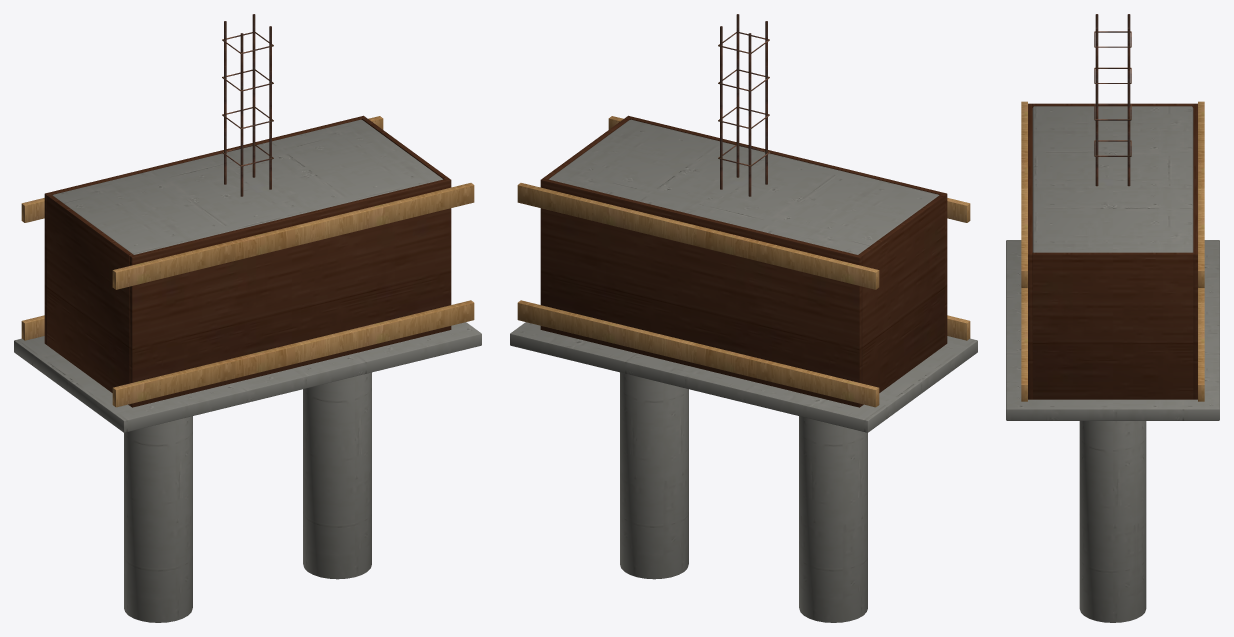
Rendered from KIT-FUN-02_lod1.glb.
3 renders of one model, left to right at view 1: azimuth 30°, elevation 25°; view 2: azimuth 150°, elevation 25°; view 3: azimuth 270°, elevation 25°, orthographic. The views are drawn at different scales.
Parts seen in each view (by area): view 1: KIT-FUN-02_fy, KIT-FUN-02_bloco, KIT-FUN-02_estaca0, KIT-FUN-02_estaca1, KIT-FUN-02_fx, KIT-FUN-02_lastro, KIT-FUN-02_sar.001, KIT-FUN-02_sar, KIT-FUN-02_fy.001, KIT-FUN-02_arr_barra3, KIT-FUN-02_arr_barra0; view 2: KIT-FUN-02_fy.001, KIT-FUN-02_bloco, KIT-FUN-02_estaca0, KIT-FUN-02_estaca1, KIT-FUN-02_fx, KIT-FUN-02_lastro, KIT-FUN-02_sar.003, KIT-FUN-02_sar.002, KIT-FUN-02_fy, KIT-FUN-02_arr_barra2, KIT-FUN-02_arr_barra1; view 3: KIT-FUN-02_fx.001, KIT-FUN-02_bloco, KIT-FUN-02_estaca1, KIT-FUN-02_lastro, KIT-FUN-02_fy, KIT-FUN-02_fy.001, KIT-FUN-02_sar.001, KIT-FUN-02_sar.003, KIT-FUN-02_sar, KIT-FUN-02_sar.002, KIT-FUN-02_arr_barra2, KIT-FUN-02_arr_barra3 (+1 smaller).
Part boxes in pixels (<box>): KIT-FUN-02_fy: <box>130,178,451,407</box>; KIT-FUN-02_bloco: <box>52,119,442,254</box>; KIT-FUN-02_estaca0: <box>124,416,192,622</box>; KIT-FUN-02_estaca1: <box>303,372,371,579</box>; KIT-FUN-02_fx: <box>47,194,133,405</box>; KIT-FUN-02_lastro: <box>14,322,481,432</box>; KIT-FUN-02_sar.001: <box>112,183,474,289</box>; KIT-FUN-02_sar: <box>112,300,474,407</box>; KIT-FUN-02_fy.001: <box>44,115,365,344</box>; KIT-FUN-02_arr_barra3: <box>252,14,255,177</box>; KIT-FUN-02_arr_barra0: <box>240,33,243,196</box>; KIT-FUN-02_fy.001: <box>540,178,861,407</box>; KIT-FUN-02_bloco: <box>549,119,939,254</box>; KIT-FUN-02_estaca0: <box>799,416,867,622</box>; KIT-FUN-02_estaca1: <box>620,372,688,579</box>; KIT-FUN-02_fx: <box>858,194,944,405</box>; KIT-FUN-02_lastro: <box>510,322,977,432</box>; KIT-FUN-02_sar.003: <box>517,183,879,289</box>; KIT-FUN-02_sar.002: <box>517,300,879,407</box>; KIT-FUN-02_fy: <box>626,115,947,344</box>; KIT-FUN-02_arr_barra2: <box>736,14,739,177</box>; KIT-FUN-02_arr_barra1: <box>748,33,751,196</box>; KIT-FUN-02_fx.001: <box>1032,252,1193,399</box>; KIT-FUN-02_bloco: <box>1032,106,1193,252</box>; KIT-FUN-02_estaca1: <box>1079,421,1146,622</box>; KIT-FUN-02_lastro: <box>1006,240,1219,420</box>; KIT-FUN-02_fy: <box>1028,103,1032,399</box>; KIT-FUN-02_fy.001: <box>1193,103,1197,399</box>; KIT-FUN-02_sar.001: <box>1021,101,1027,287</box>; KIT-FUN-02_sar.003: <box>1198,101,1204,287</box>; KIT-FUN-02_sar: <box>1021,288,1027,401</box>; KIT-FUN-02_sar.002: <box>1198,288,1204,401</box>; KIT-FUN-02_arr_barra2: <box>1095,27,1098,186</box>; KIT-FUN-02_arr_barra3: <box>1127,27,1130,186</box>.
Bounding box in the file's own units: 1.5 × 2.25 × 0.8.
4 materials, 4 textured.
